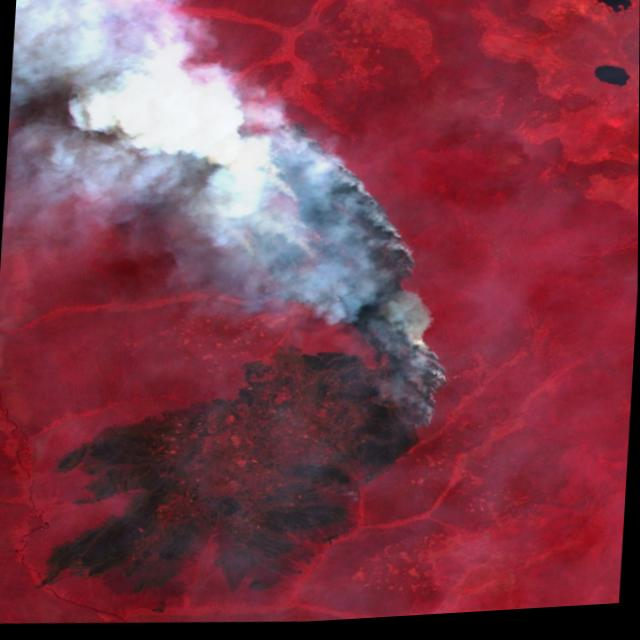fire: (216, 109, 466, 445)
